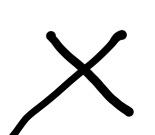mult: (9, 30, 134, 135)
